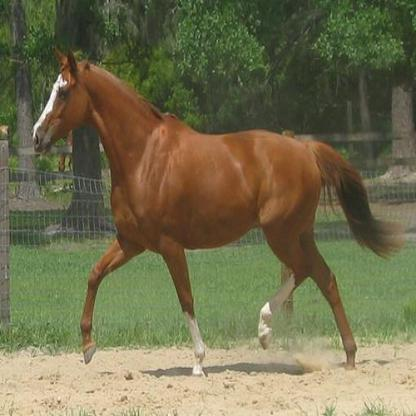horse: (31, 46, 404, 378)
